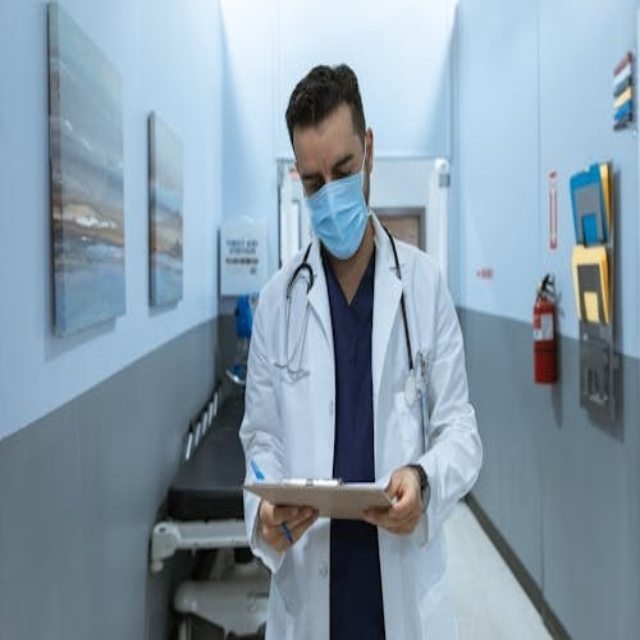Mascara: (303, 142, 369, 259)
Sin_gafas: (294, 144, 360, 200)
Sin_guantes: (357, 459, 424, 544), (256, 494, 317, 553)
